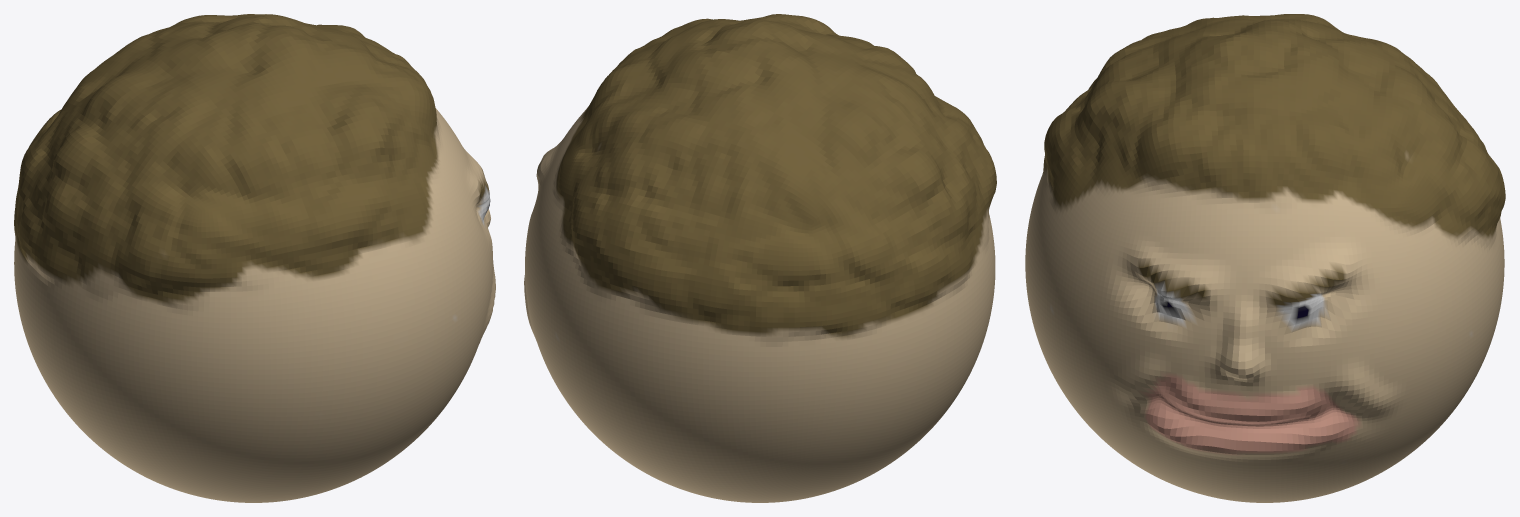
Rendered from Bully Head.fbx.
3 views of the same model, side by side, from view 1: azimuth 30°, elevation 25°; view 2: azimuth 150°, elevation 25°; view 3: azimuth 270°, elevation 25° (orthographic).
Parts seen in each view (by area): view 1: Quad Sphere; view 2: Quad Sphere; view 3: Quad Sphere.
Part boxes in pixels (<box>): Quad Sphere: <box>14,14,495,502</box>; Quad Sphere: <box>524,14,996,502</box>; Quad Sphere: <box>1025,14,1505,502</box>.
Size of the model in its own units: 267 by 267 by 257.
